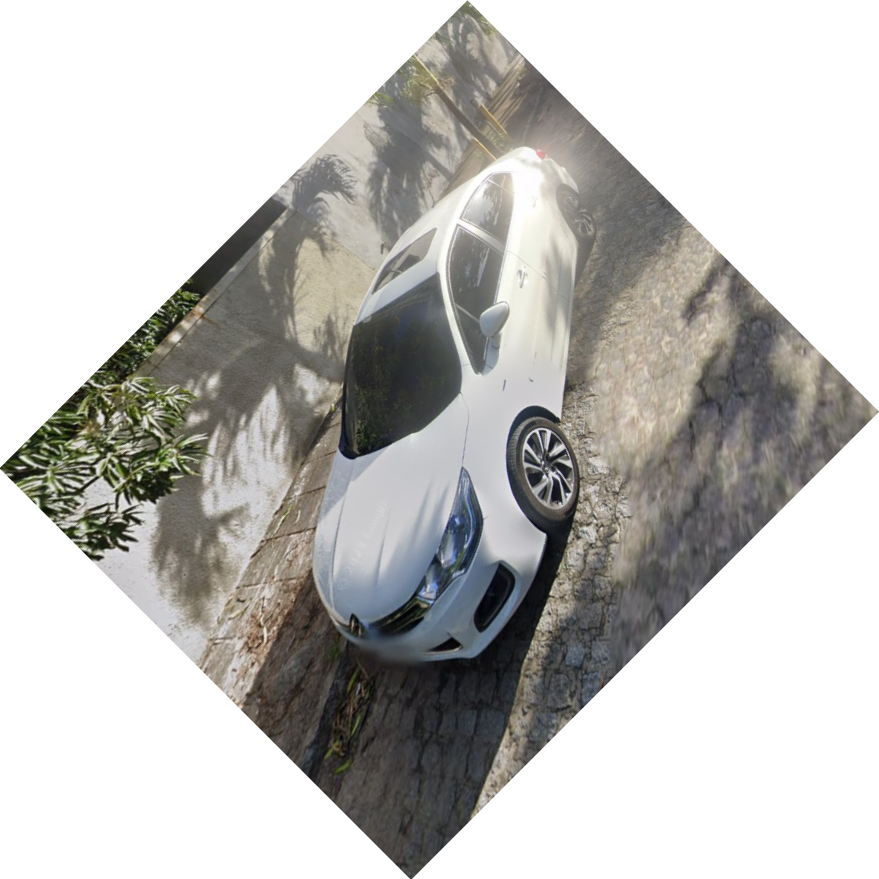car: (307, 144, 601, 687)
